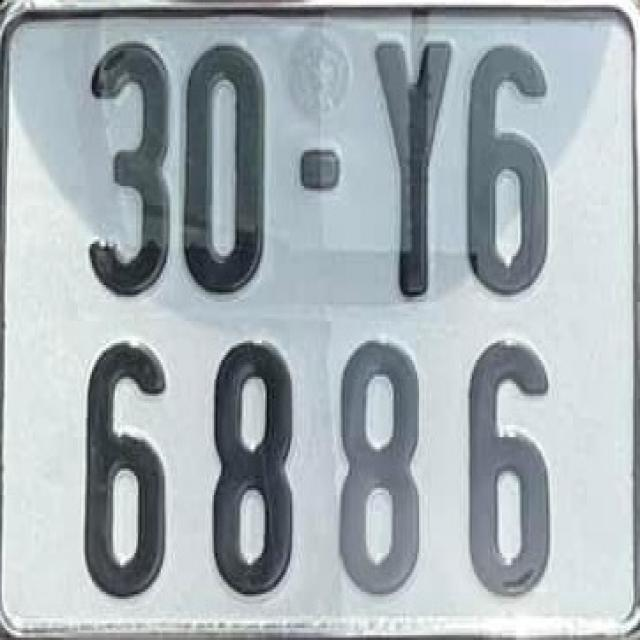0: (177, 32, 276, 300)
3: (83, 28, 175, 300)
6: (456, 328, 559, 602), (76, 331, 173, 604), (458, 32, 555, 300)
8: (330, 326, 430, 599), (202, 328, 300, 599)
Y: (370, 27, 456, 300)
